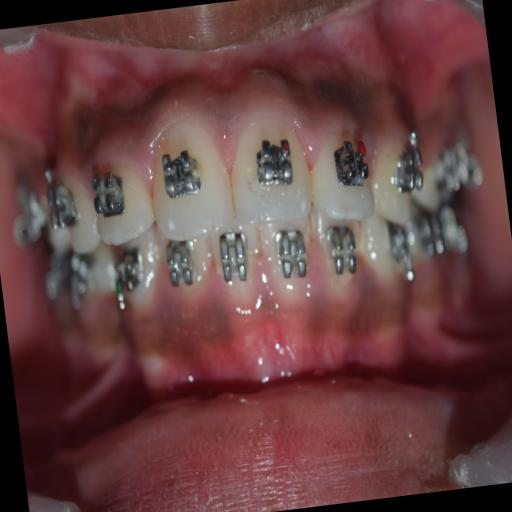correct_brace: (384, 124, 438, 203), (249, 130, 302, 196), (328, 130, 374, 192), (160, 144, 206, 204), (88, 160, 132, 222), (41, 174, 81, 236)
incorrect_brace: (306, 114, 382, 228), (86, 140, 160, 251)
